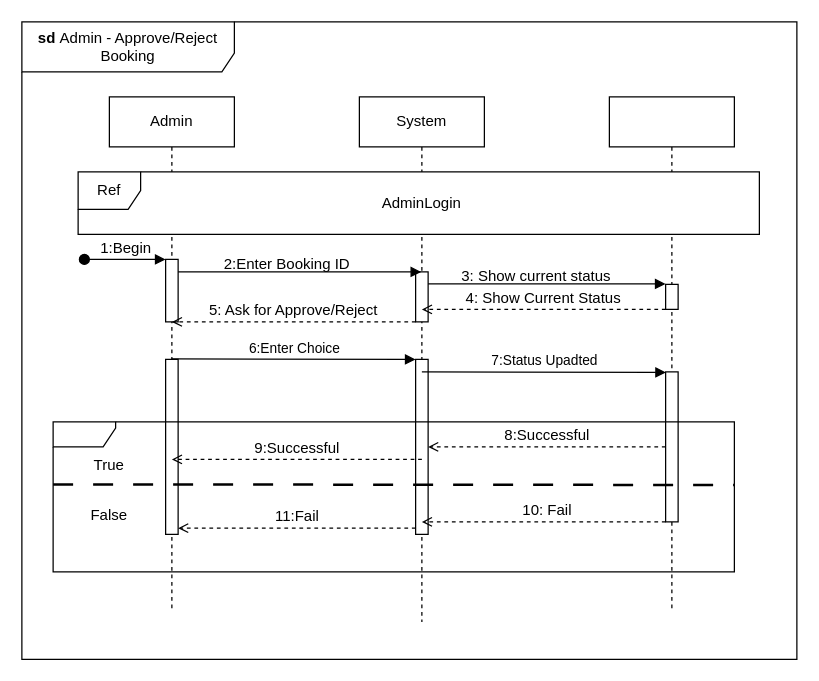
This 819x681 diagram has some shape labels left out. The centre of each missing label's shape, as x and y in pixels:
"alt" goes at (x=393, y=496).
"Database" goes at (x=671, y=352).
